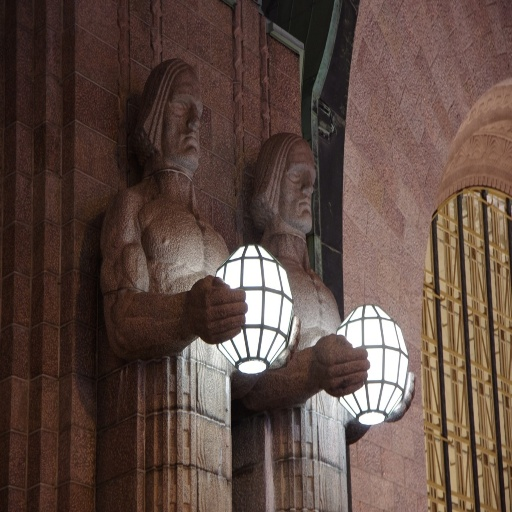hand: (168, 262, 252, 348), (312, 332, 371, 400), (266, 312, 302, 371), (385, 371, 417, 423)
